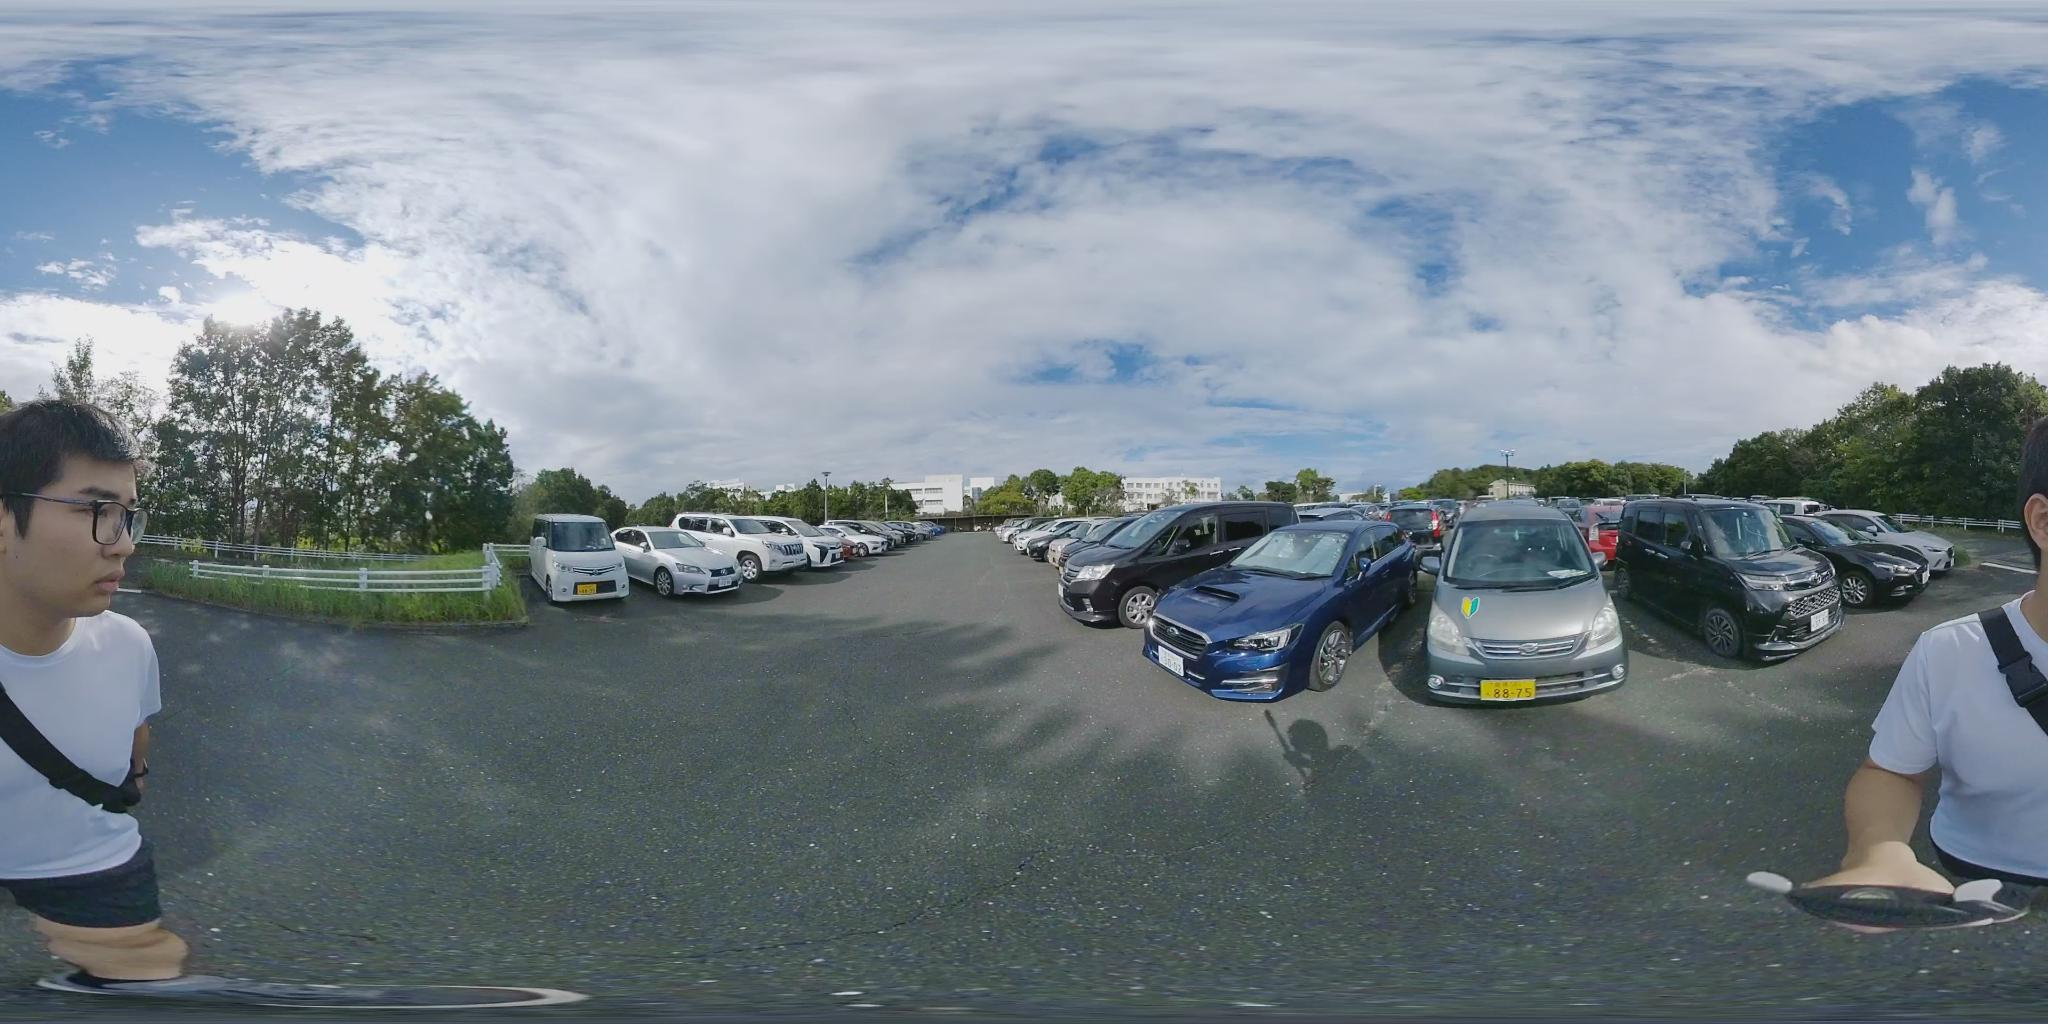car: (1134, 515, 1428, 697), (1597, 499, 1859, 665), (1433, 505, 1621, 701), (1059, 504, 1336, 627), (1788, 512, 1947, 598), (667, 515, 836, 577), (615, 530, 759, 600), (1002, 519, 1112, 560), (818, 522, 899, 558)
